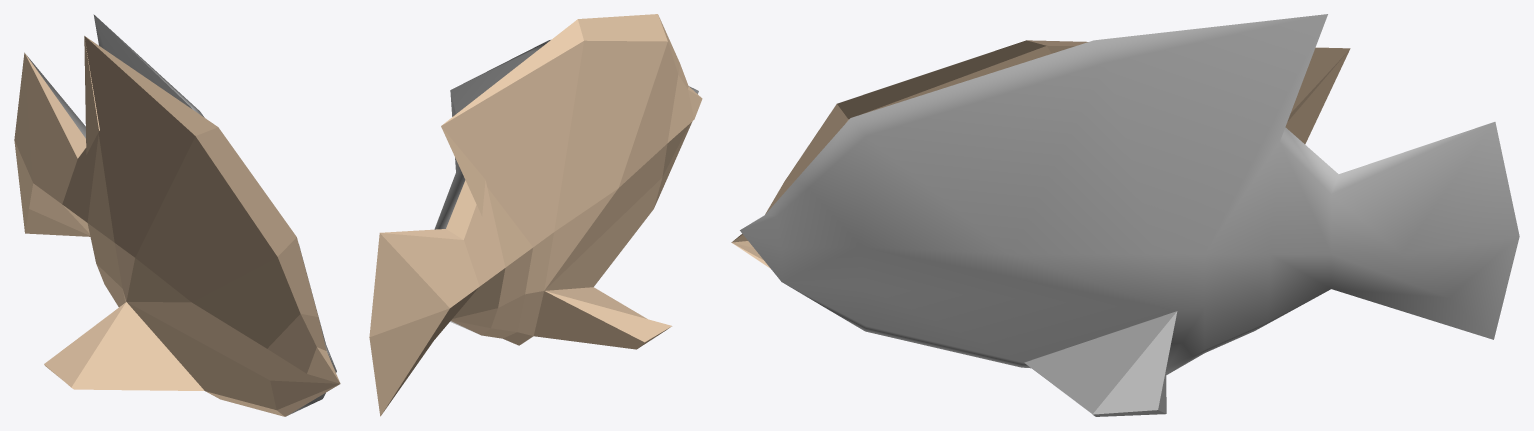
Rendered from Gold Fish.fbx.
3 views of the same model, side by side, from view 1: azimuth 30°, elevation 25°; view 2: azimuth 150°, elevation 25°; view 3: azimuth 270°, elevation 25° (orthographic). The views are drawn at different scales.
Parts seen in each view (by area): view 1: Red_Fish:pCube2, Red_Fish:pCube1; view 2: Red_Fish:pCube2, Red_Fish:pCube1; view 3: Red_Fish:pCube1, Red_Fish:pCube2.
Part boxes in pixels (x1,y1,x2,y2): Red_Fish:pCube2: (14, 36, 340, 416); Red_Fish:pCube1: (26, 14, 336, 416); Red_Fish:pCube2: (369, 14, 702, 416); Red_Fish:pCube1: (434, 40, 698, 333); Red_Fish:pCube1: (740, 14, 1519, 416); Red_Fish:pCube2: (731, 40, 1350, 268).
Bounding box in the file's own units: 1.2 × 1.43 × 2.82.
